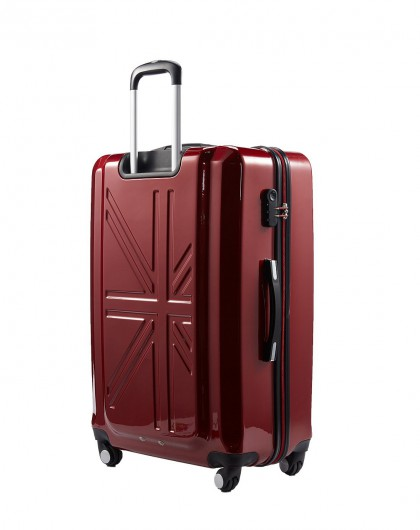luggage: (90, 60, 317, 492)
